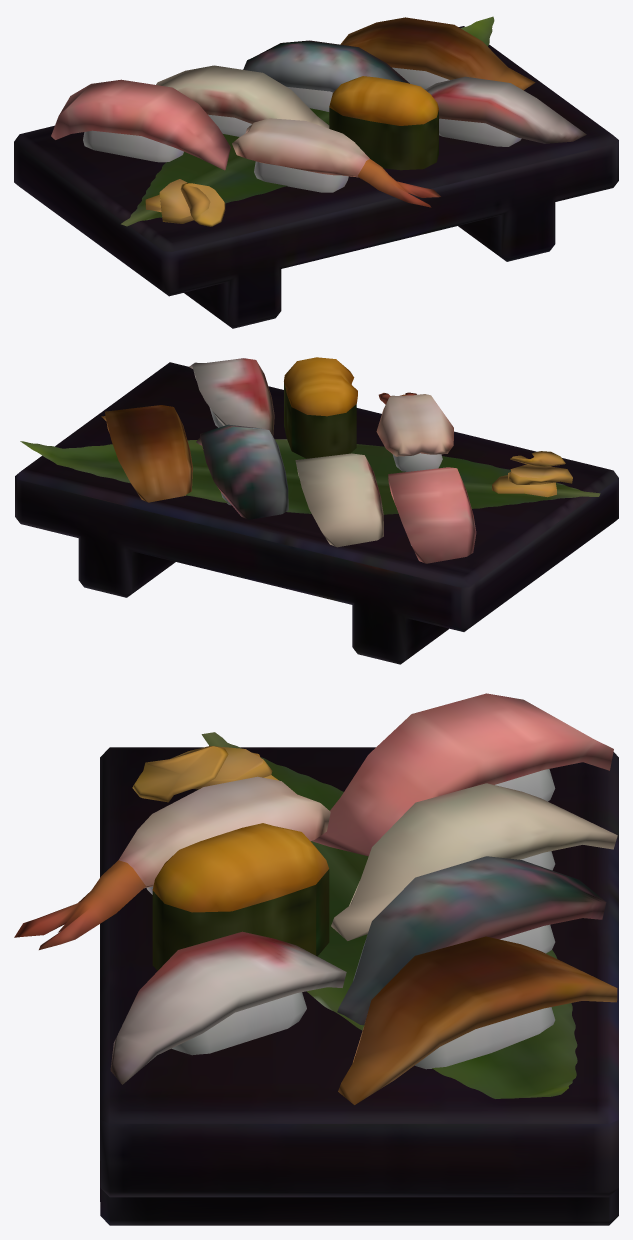
3 renders of one model, top to bottom at view 1: azimuth 30°, elevation 25°; view 2: azimuth 150°, elevation 25°; view 3: azimuth 270°, elevation 25°, orthographic. The views are drawn at different scales.
Size of the model in its own units: 9.13 by 3.02 by 5.84.
1 material, 1 textured.
